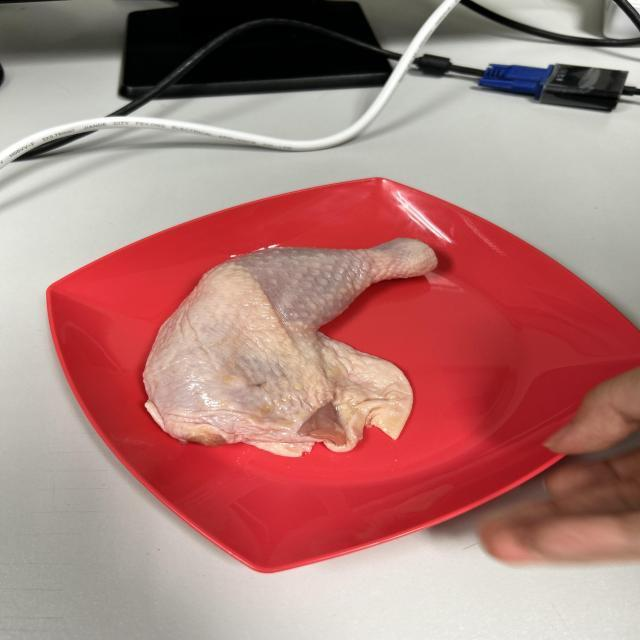quater: (152, 235, 438, 444)
